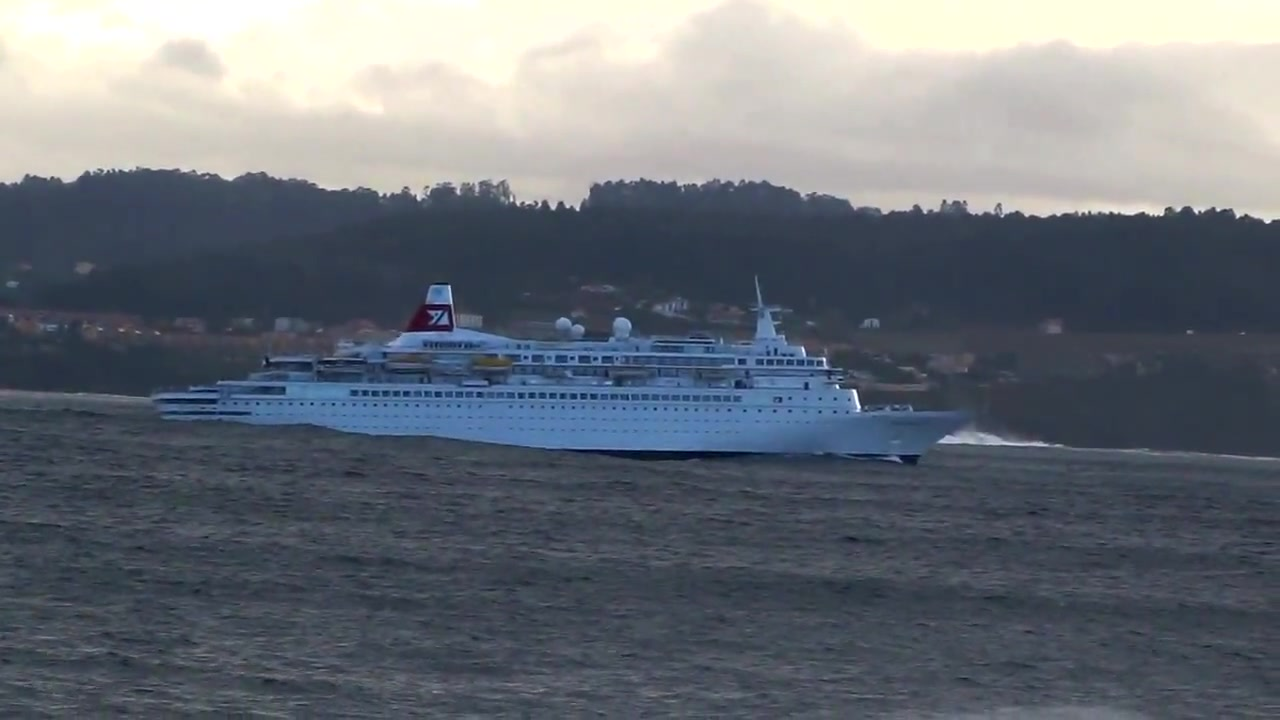boat: (148, 274, 981, 460)
